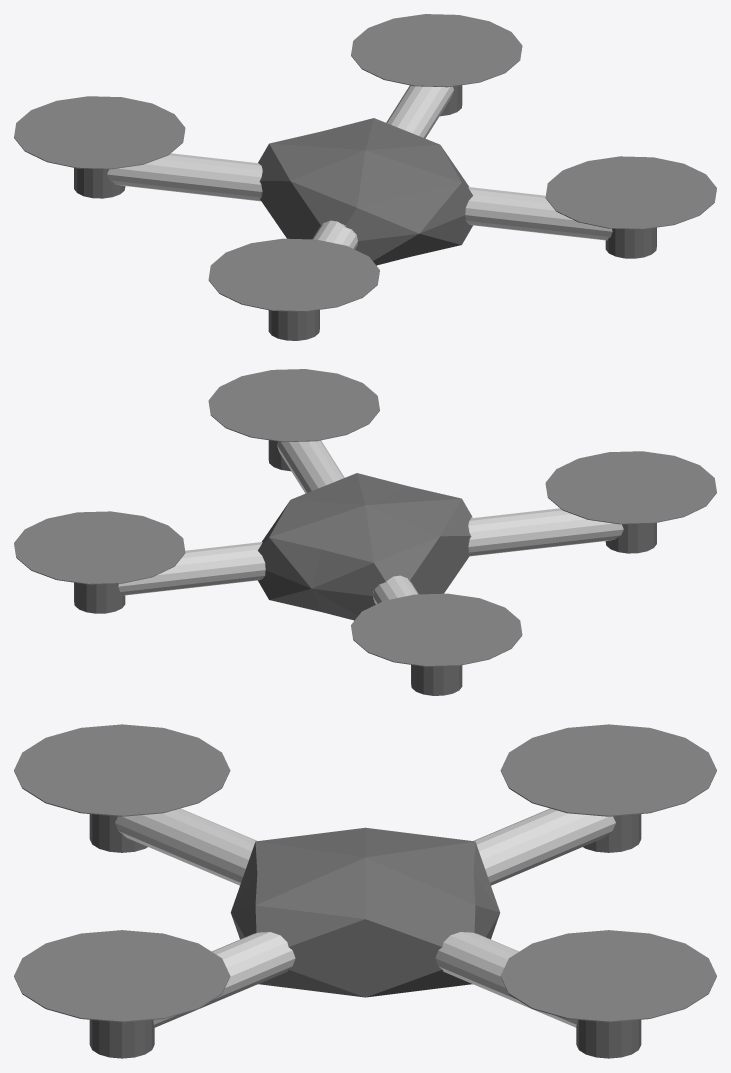
File: drone.glb
The picture shows the model from 3 angles, top to bottom: view 1: azimuth 30°, elevation 25°; view 2: azimuth 150°, elevation 25°; view 3: azimuth 270°, elevation 25°; orthographic projection. The views are drawn at different scales.
Visible parts, largest first — view 1: Drone; view 2: Drone; view 3: Drone.
Part boxes in pixels (<box>): Drone: <box>14,14,716,340</box>; Drone: <box>14,369,716,695</box>; Drone: <box>14,724,716,1058</box>.
Bounding box in the file's own units: 6.5 × 1.35 × 6.5.
1 material, 1 textured.
